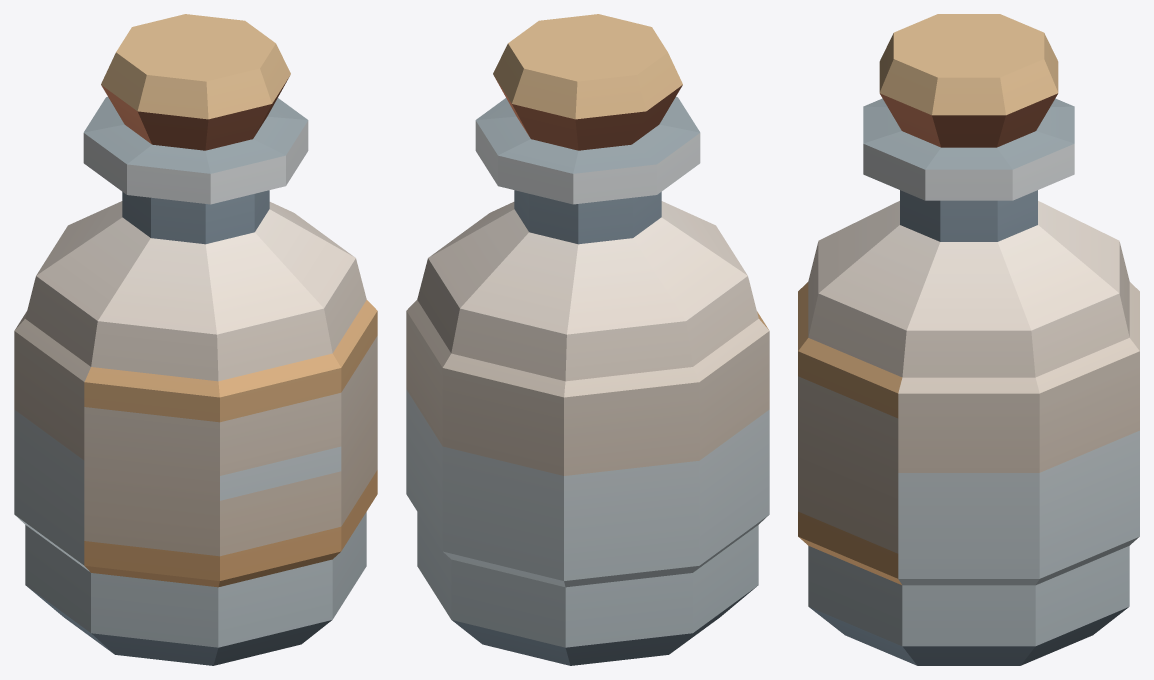
File: source.glb
3 views of the same model, side by side, from view 1: azimuth 30°, elevation 25°; view 2: azimuth 150°, elevation 25°; view 3: azimuth 270°, elevation 25° (orthographic).
Parts seen in each view (by area): view 1: model; view 2: model; view 3: model.
Boxes of the visible parts, bbox=[...] form: model: bbox=[14, 14, 377, 665]; model: bbox=[406, 14, 769, 665]; model: bbox=[798, 14, 1139, 665].
Bounding box in the file's own units: 0.48 × 0.88 × 0.48.
1 material, 1 textured.
